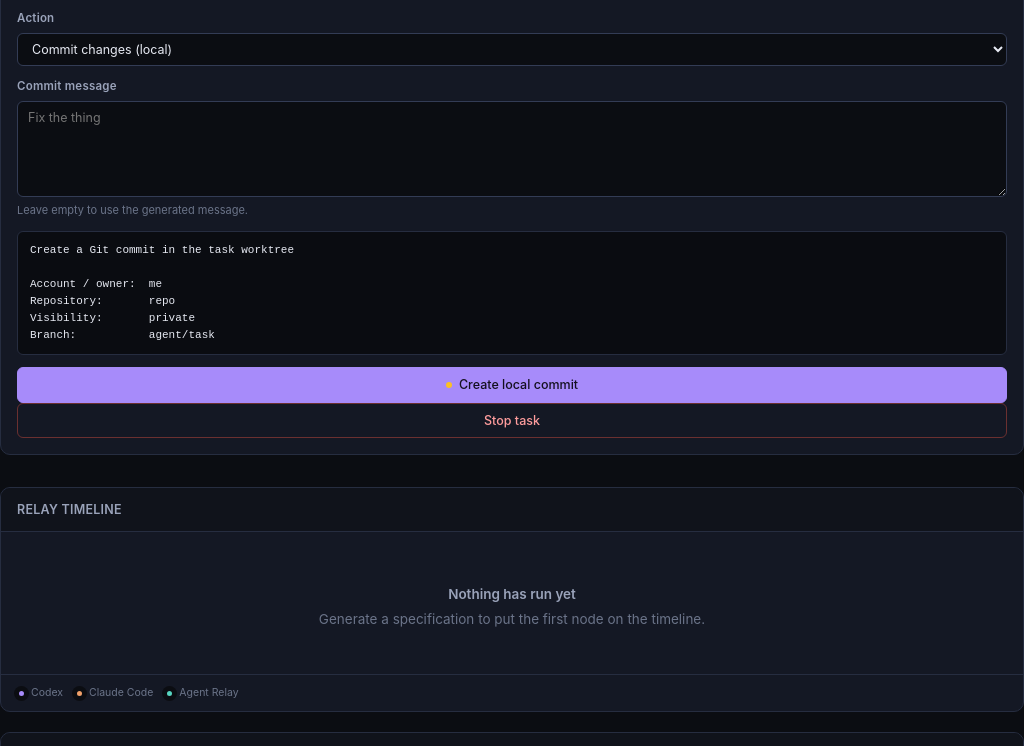
Test: Run screen — publishing operation feedback › keeps a successful commit result visible and advances to the push action
This screenshot has width=1024, height=746.
(page scrolled)
Step 1. Click the button "Create local commit" → click(512, 385), box [17,367,1007,403]
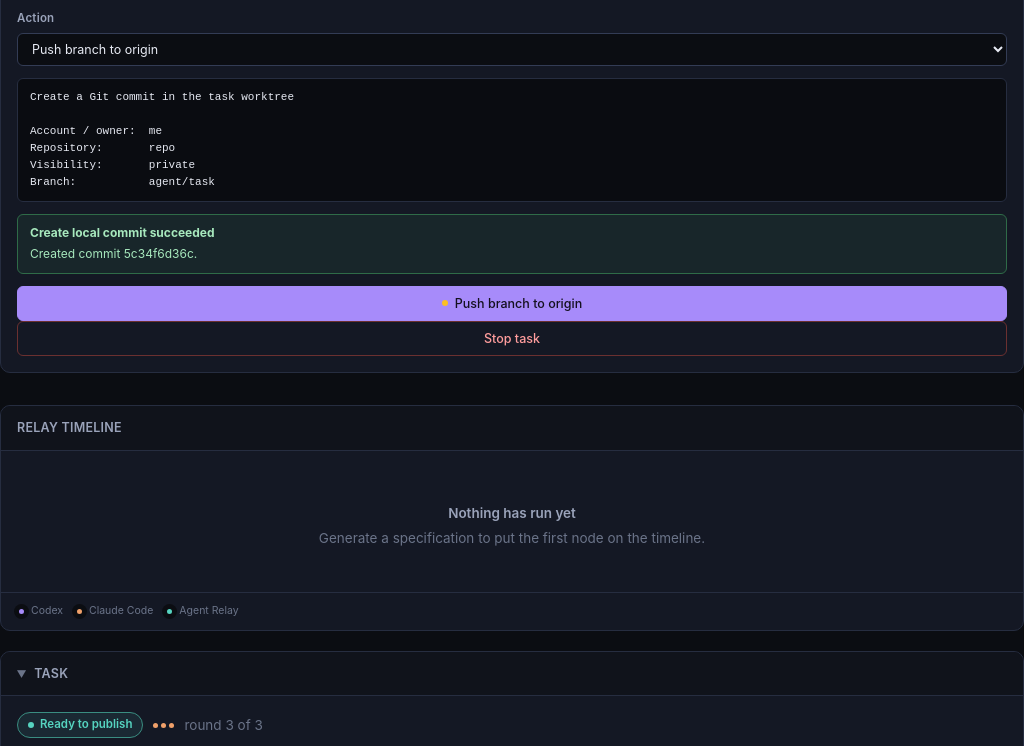
Check: the text "Create local commit succeeded" is shown, box [30,224,214,243]
Check: the text "Created commit 5c34f6d36c." is shown, box [30,245,214,264]
Check: the button "Push branch to origin" is shown, box [17,286,1007,321]
